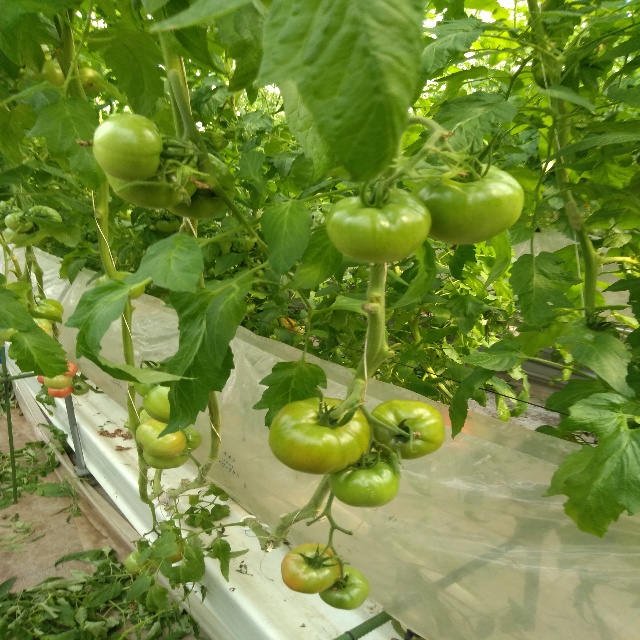b_green: (411, 160, 524, 246), (267, 397, 371, 475), (326, 187, 432, 263), (103, 134, 200, 209), (166, 148, 237, 219), (92, 112, 163, 182), (369, 400, 446, 461), (330, 451, 400, 507), (318, 566, 370, 611), (136, 417, 186, 459), (142, 445, 191, 469), (142, 385, 170, 424), (33, 298, 64, 325), (178, 426, 202, 452), (3, 212, 34, 232), (26, 206, 62, 223), (43, 374, 73, 389), (71, 382, 90, 396)
b_half_ripened: (281, 542, 342, 594), (47, 386, 72, 398), (63, 361, 78, 380)
